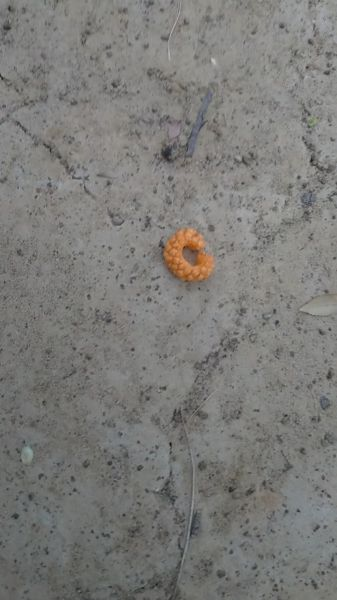eggs: (159, 218, 223, 293)
